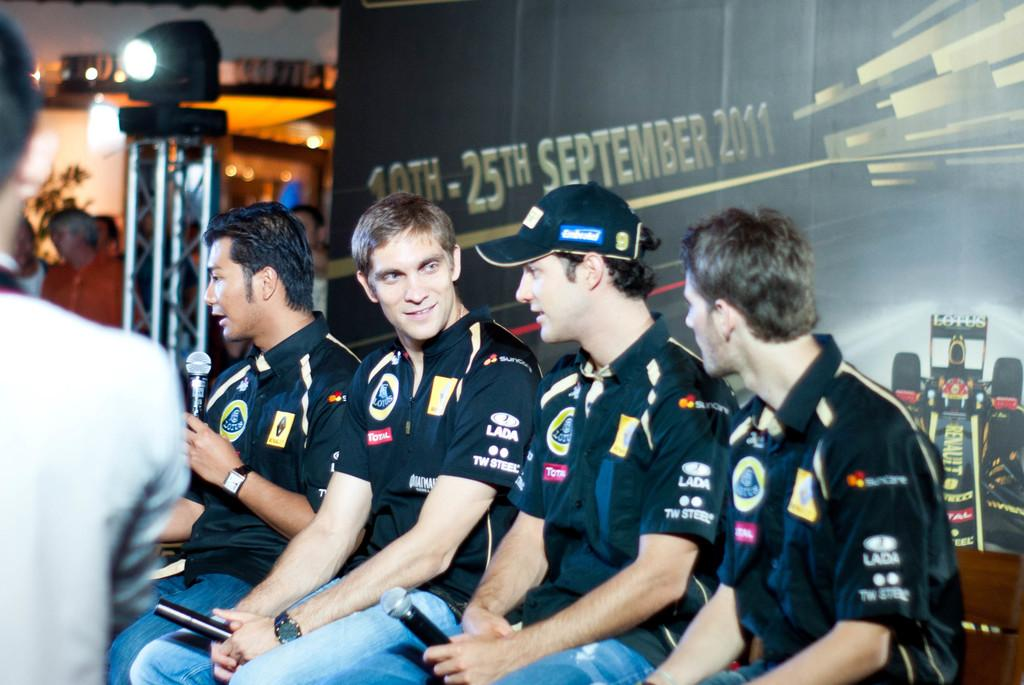Hat: (477, 178, 656, 270)
